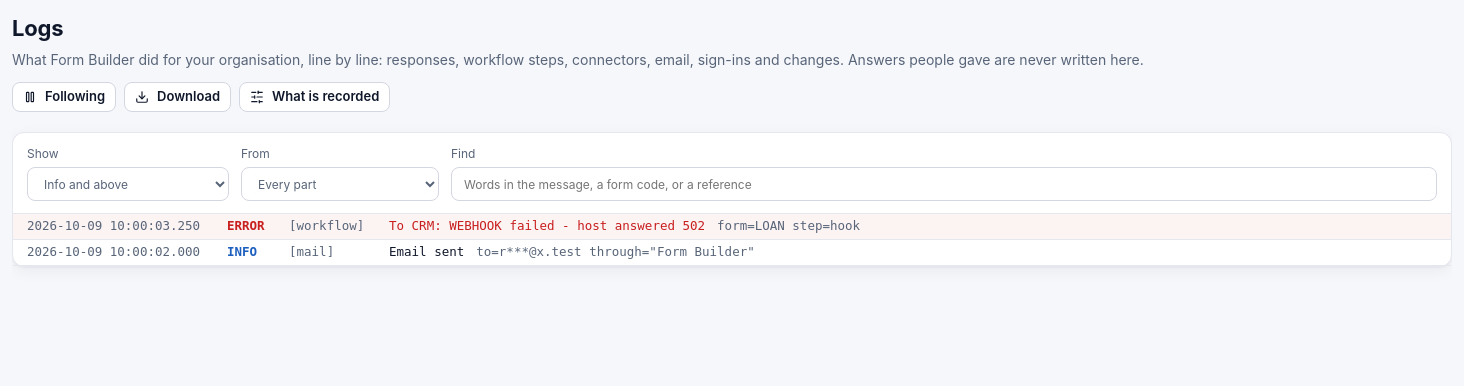
Test: the log console › a line opens to show its facts one by one
Click the button that starts with "INFO": (732, 253) [13,240,1451,266]
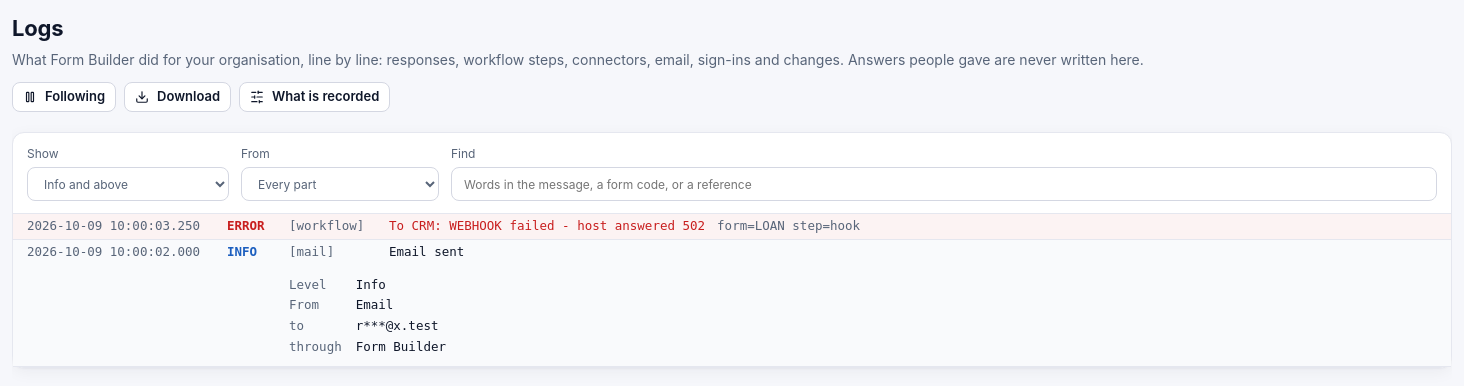
Expected: the text "through" is shown, [289,338,342,357]
Result: the button that starts with "INFO" is expanded at [13,240,1451,366]
Result: the text "Email" is shown at [356,297,393,312]
